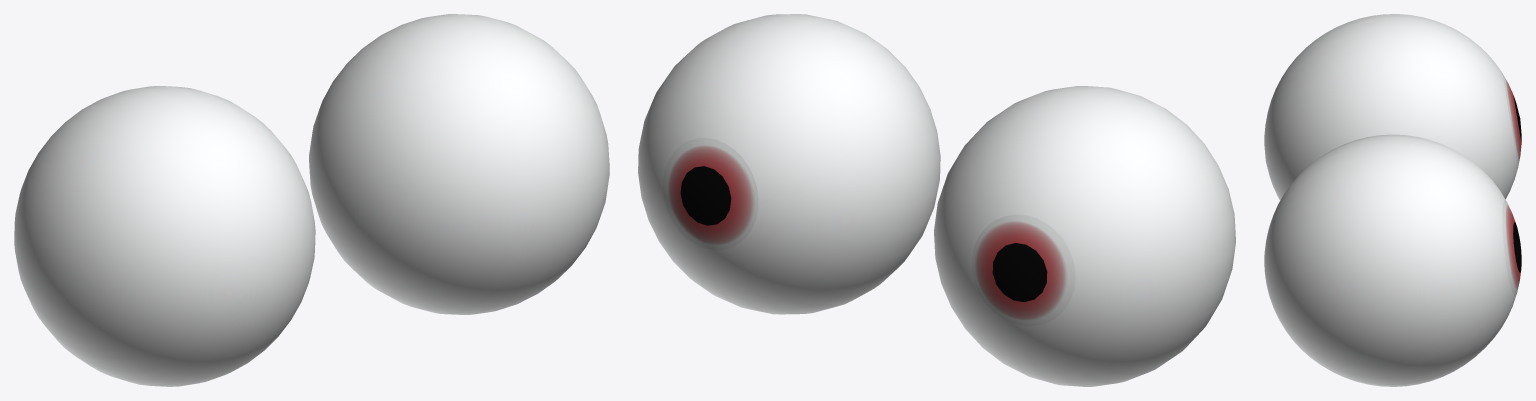
File: lwjglcharactergoblin12.obj
3 views of the same model, side by side, from view 1: azimuth 30°, elevation 25°; view 2: azimuth 150°, elevation 25°; view 3: azimuth 270°, elevation 25° (orthographic). The views are drawn at different scales.
Visible parts, largest first — view 1: Sphere; view 2: Sphere; view 3: Sphere.
Boxes of the visible parts, x1,y1,x2,y2 form: Sphere: (14,14,609,386); Sphere: (638,14,1235,386); Sphere: (1264,14,1521,386).
Bounding box in the file's own units: 0.6082 × 0.285 × 0.2906.
